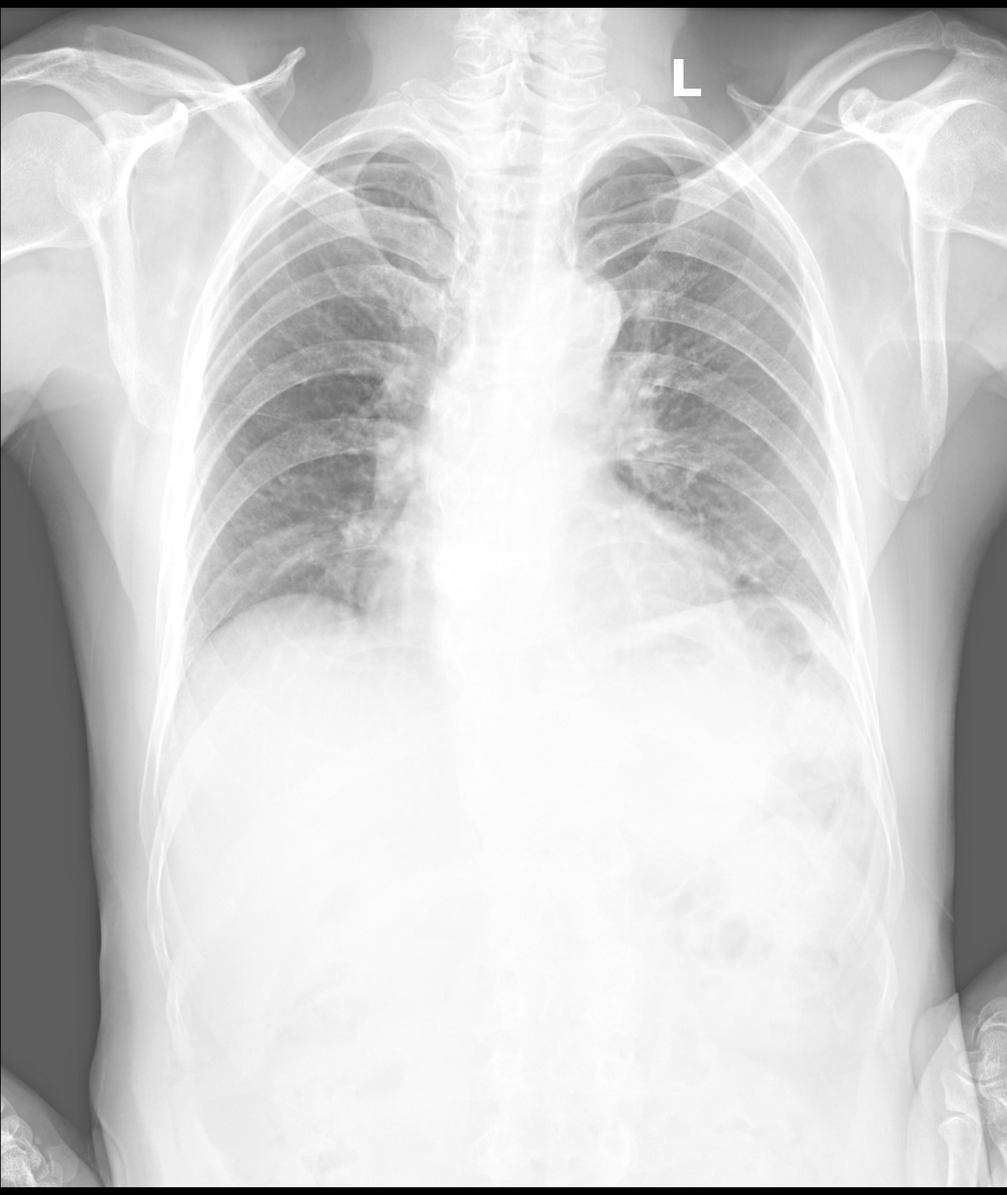Aortic enlargement: (519, 272, 622, 366)
